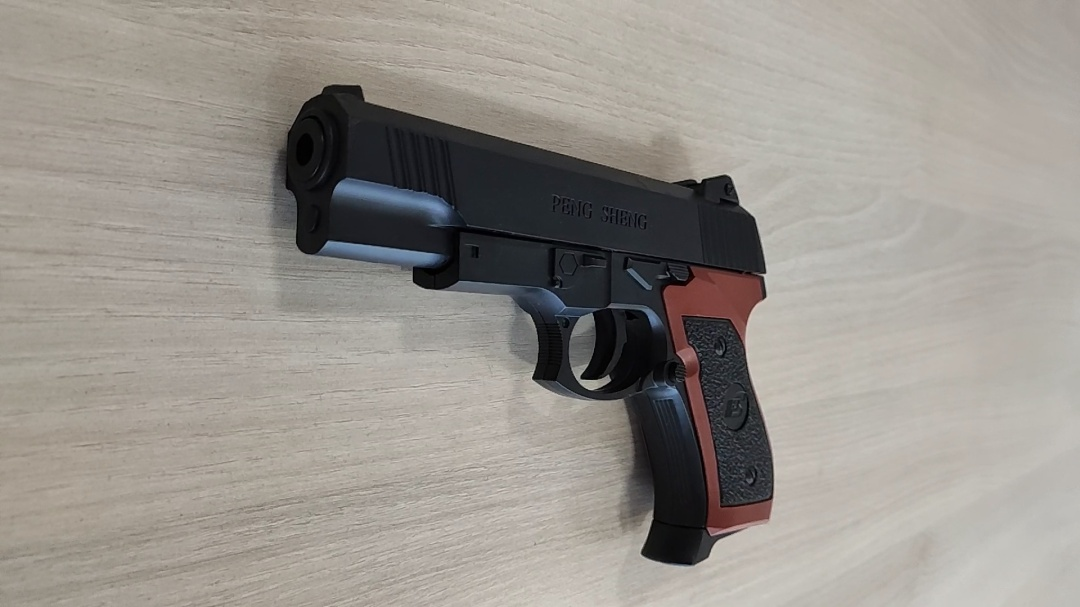gun: (610, 261, 660, 366)
